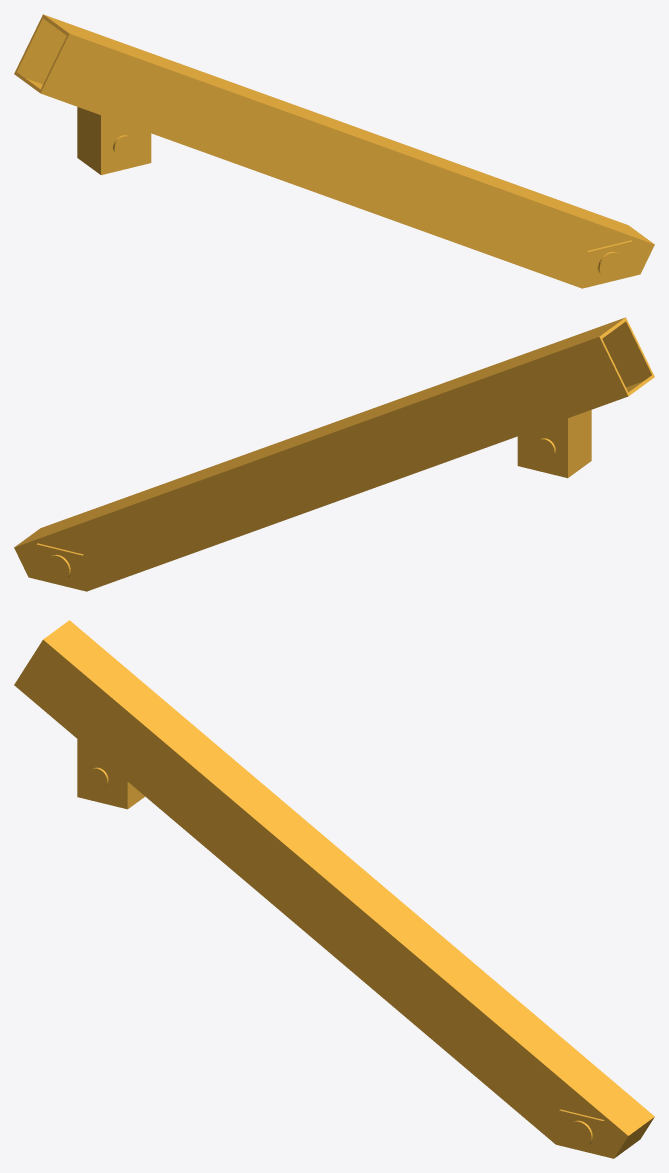
Rendered from crane_boom01.obj.
3 renders of one model, top to bottom at view 1: azimuth 30°, elevation 25°; view 2: azimuth 150°, elevation 25°; view 3: azimuth 330°, elevation 25°, orthographic.
Parts seen in each view (by area): view 1: Body.004_ID926, Body.010_ID986, Body.005_ID936; view 2: Body.004_ID926, Body.010_ID986, Body.005_ID936; view 3: Body.004_ID926, Body.010_ID986.
Boxes of the visible parts, x1,y1,x2,y2 form: Body.004_ID926: [14, 14, 654, 288]; Body.010_ID986: [77, 107, 151, 175]; Body.005_ID936: [597, 251, 623, 278]; Body.004_ID926: [14, 317, 654, 591]; Body.010_ID986: [517, 410, 591, 478]; Body.005_ID936: [45, 554, 71, 581]; Body.004_ID926: [14, 620, 654, 1158]; Body.010_ID986: [77, 739, 144, 809].
Size of the model in its own units: 1.3 by 0.7696 by 0.1177.
